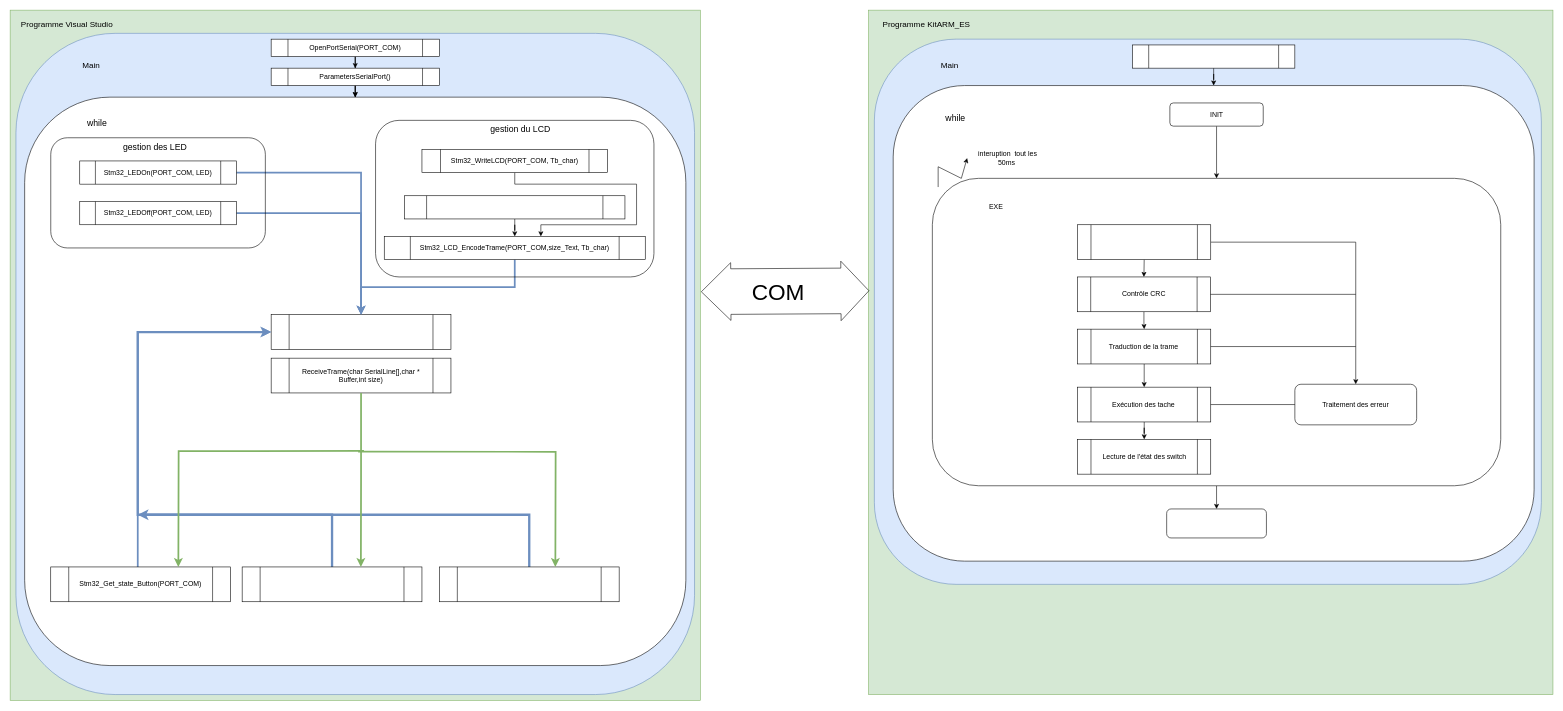
Image size: 1563x711. Some labels were removed from this diagram. The shapes that lost their labels are listed below. From the top down, each one's centre as x and y in pixels, then its label:
At pixel 1213 56: "initialisation des périphériques et I/O".
At pixel 514 207: "Stm32_printf_LCD_Console(PORT_COM, Tb_char)".
At pixel 1144 242: "réception UART".
At pixel 361 331: "SendTrame(char SerialLine[],char * Buffer,int size)".
At pixel 1216 523: "WAIT".
At pixel 332 584: "Stm32_Get_ADC(PORT_COM)".
At pixel 529 584: "Stm32_Get_Temp(PORT_COM)".
